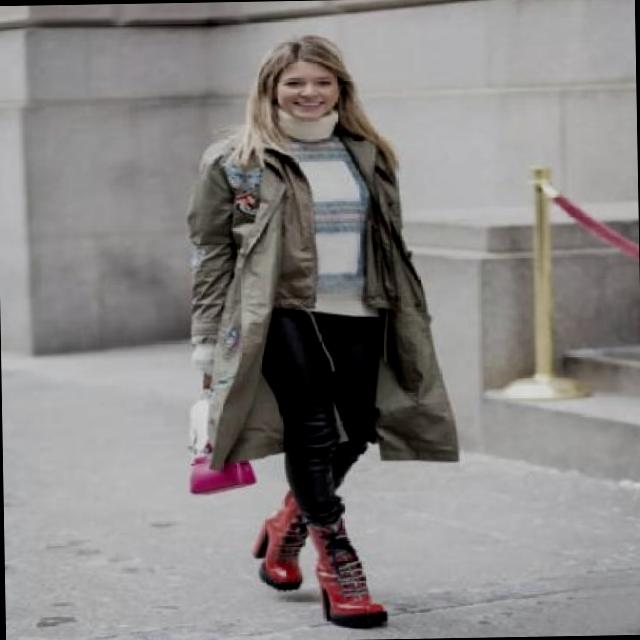Person: (113, 8, 501, 640)
